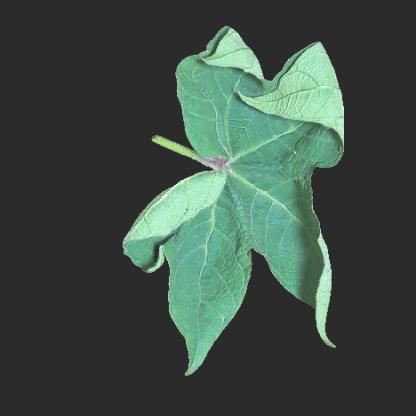curl_stage2: (210, 55, 337, 157), (167, 192, 287, 256), (283, 228, 339, 312)
